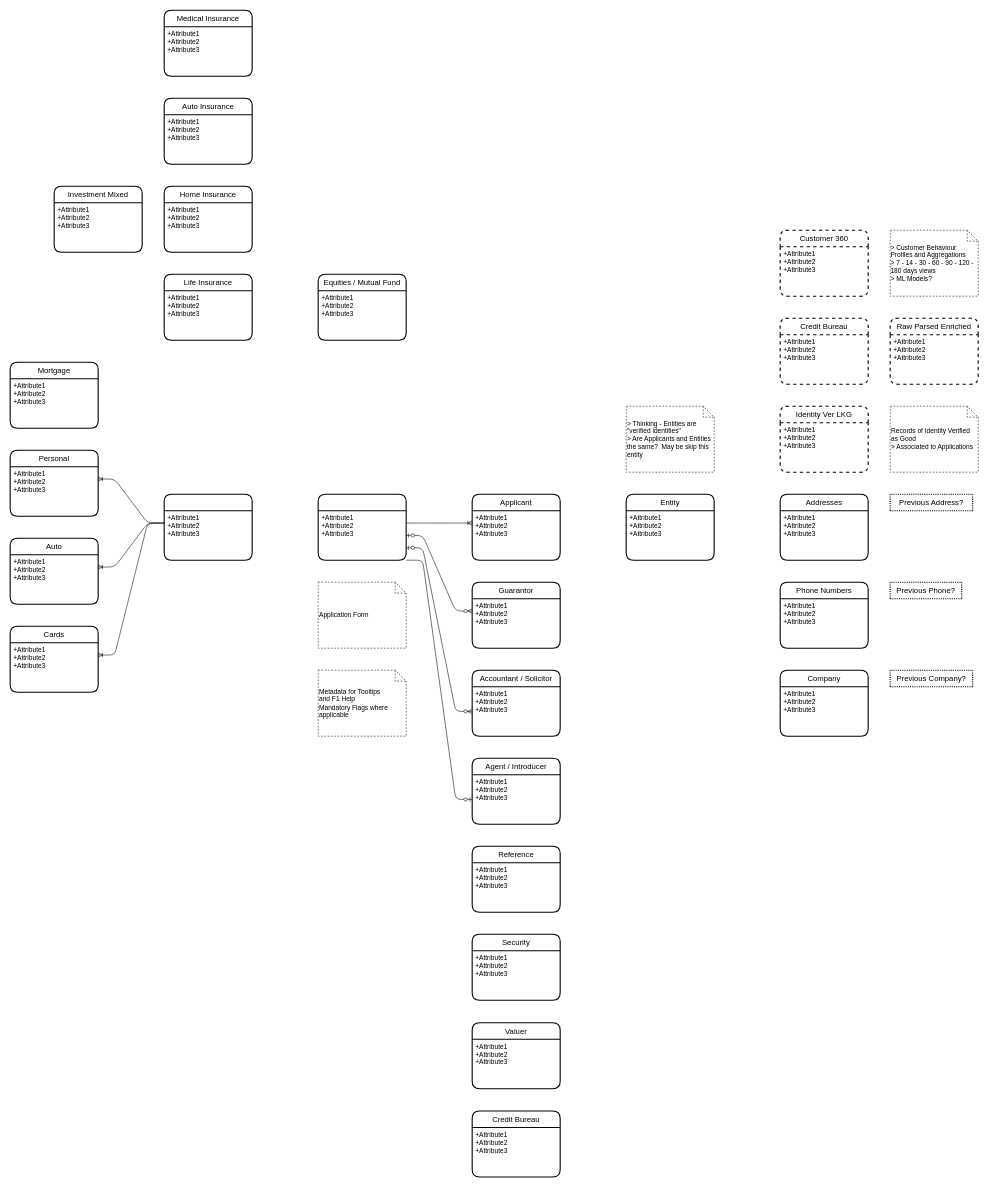
Image size: 988x1187. Some labels were removed from this diagram. Here are the shapes that lost their labels. From the top down, the box of each, then its label:
(163, 493, 252, 560): Product Catalogue
(317, 493, 406, 560): Application
